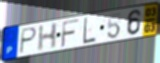5: (106, 11, 123, 40)
6: (126, 9, 142, 36)
F: (60, 18, 80, 49)
H: (37, 21, 59, 53)
L: (83, 16, 97, 45)
P: (18, 26, 38, 55)
